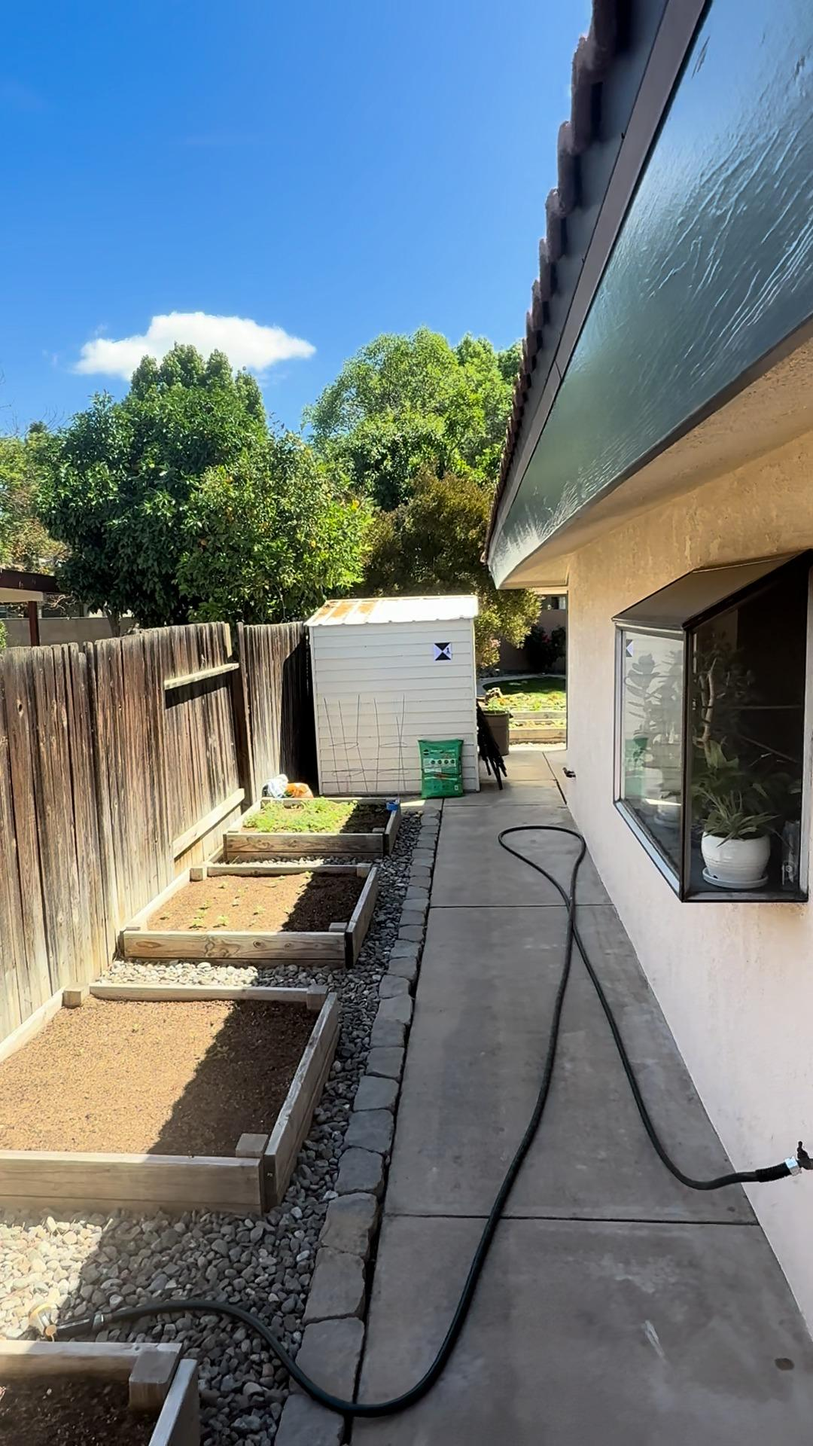target1: (432, 641, 454, 662)
